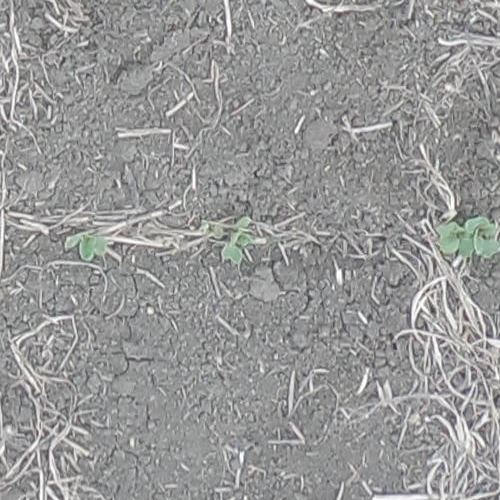plant: (438, 215, 499, 259), (222, 217, 254, 261), (74, 232, 109, 263)
